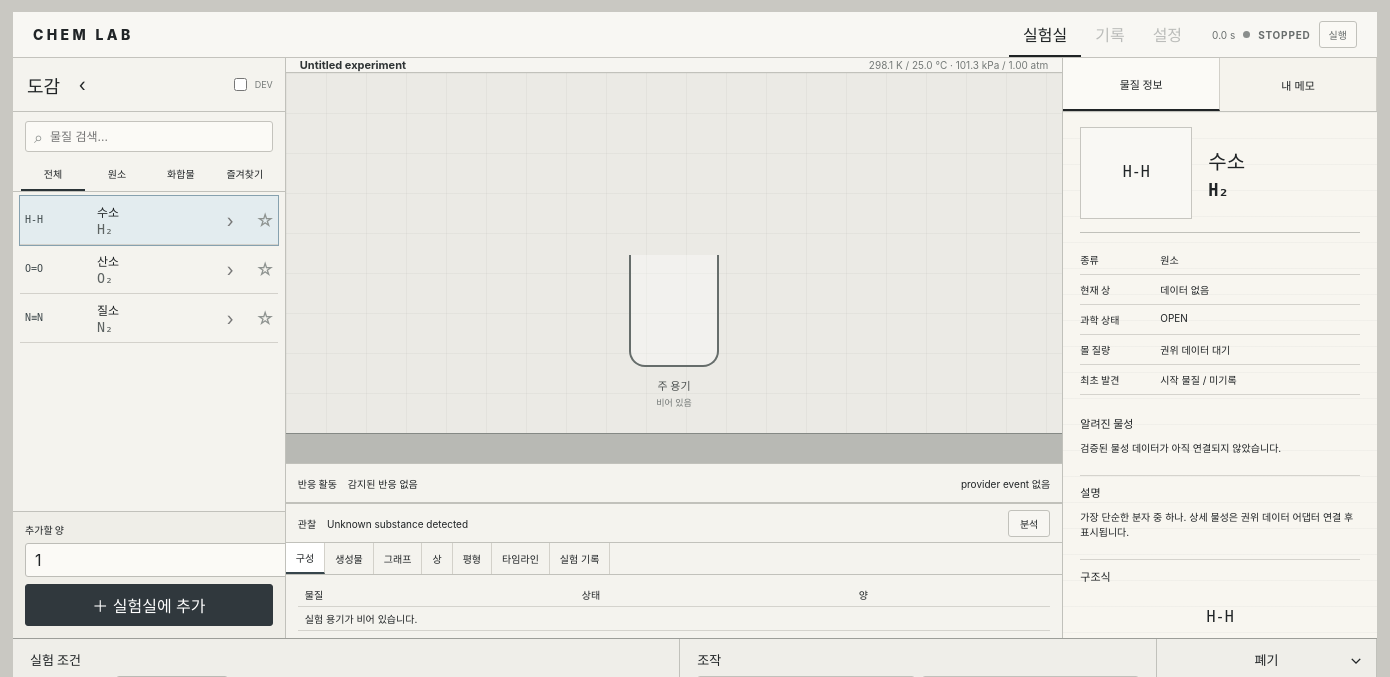
Test: LaboratoryWorkspace workbench refinement › collapses and restores the catalog without losing access state
Click the button named "도감 접기". click: (82,84)
box: 68,70 -> 96,98
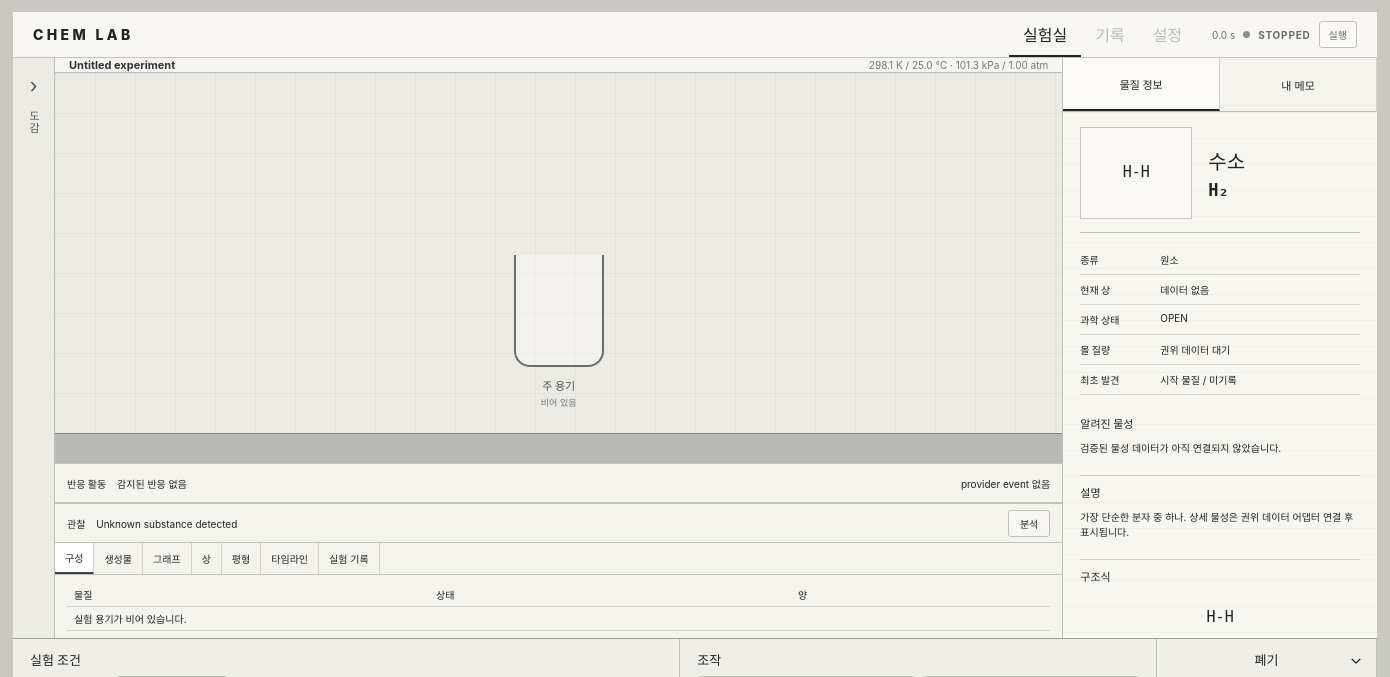
Check: the button with aria-label "도감 펼치기" is shown
Click the button with aria-label "도감 펼치기". click: (34,348)
box: 13,58 -> 54,638
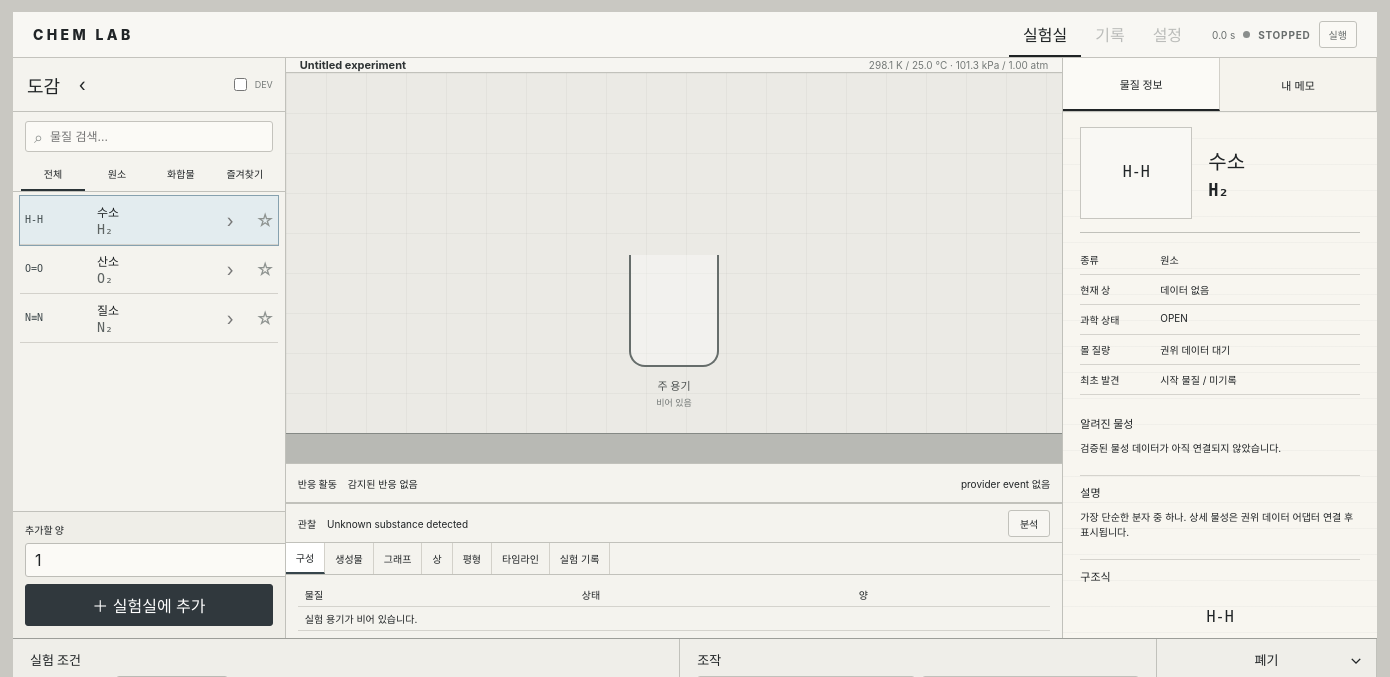
Check: the field labelled "물질 검색" is shown, box 43,122 -> 264,151
Check: the text "수소" is shown, box 97,205 -> 119,220
